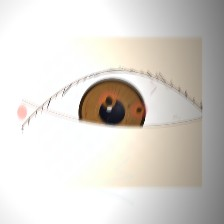foreign_body_visible: (125, 99, 153, 121)
